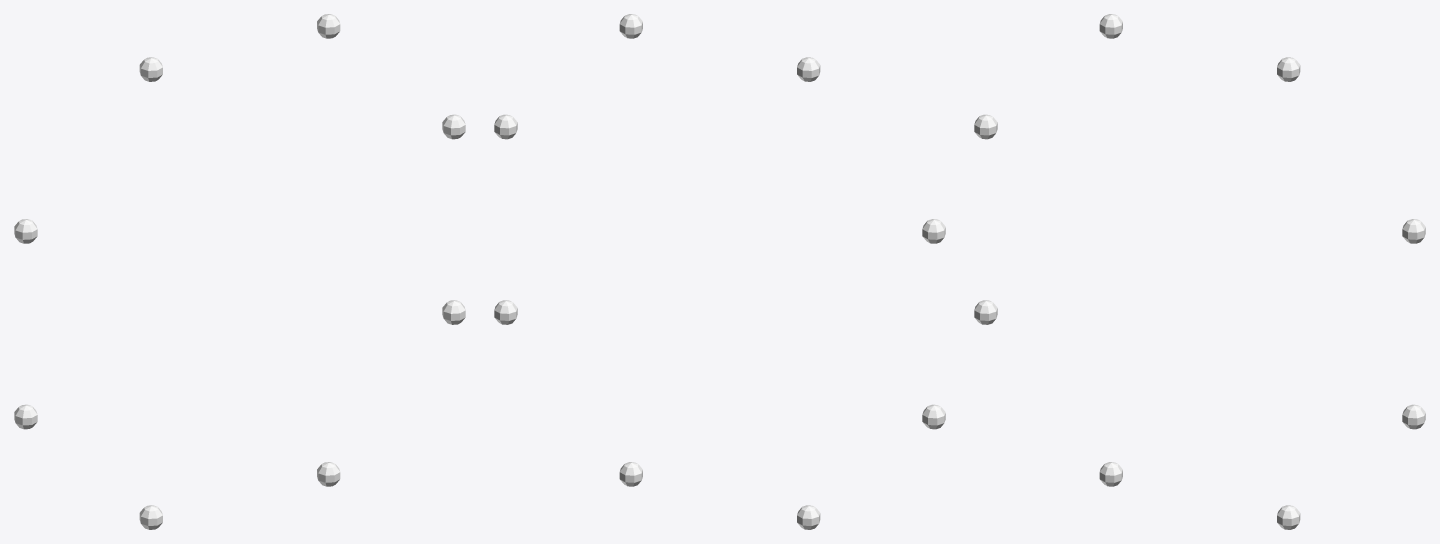
File: RingNodes4.obj
3 views of the same model, side by side, from view 1: azimuth 30°, elevation 25°; view 2: azimuth 150°, elevation 25°; view 3: azimuth 330°, elevation 25° (orthographic).
Visible parts, largest first — view 1: RingNodes4; view 2: RingNodes4; view 3: RingNodes4.
Part boxes in pixels (x1,y1,x2,y2): RingNodes4: [14, 14, 465, 529]; RingNodes4: [494, 14, 945, 529]; RingNodes4: [974, 14, 1425, 529].
Size of the model in its own units: 11.43 by 11.46 by 0.5326.
Materials: 1 (1 with a texture image).
